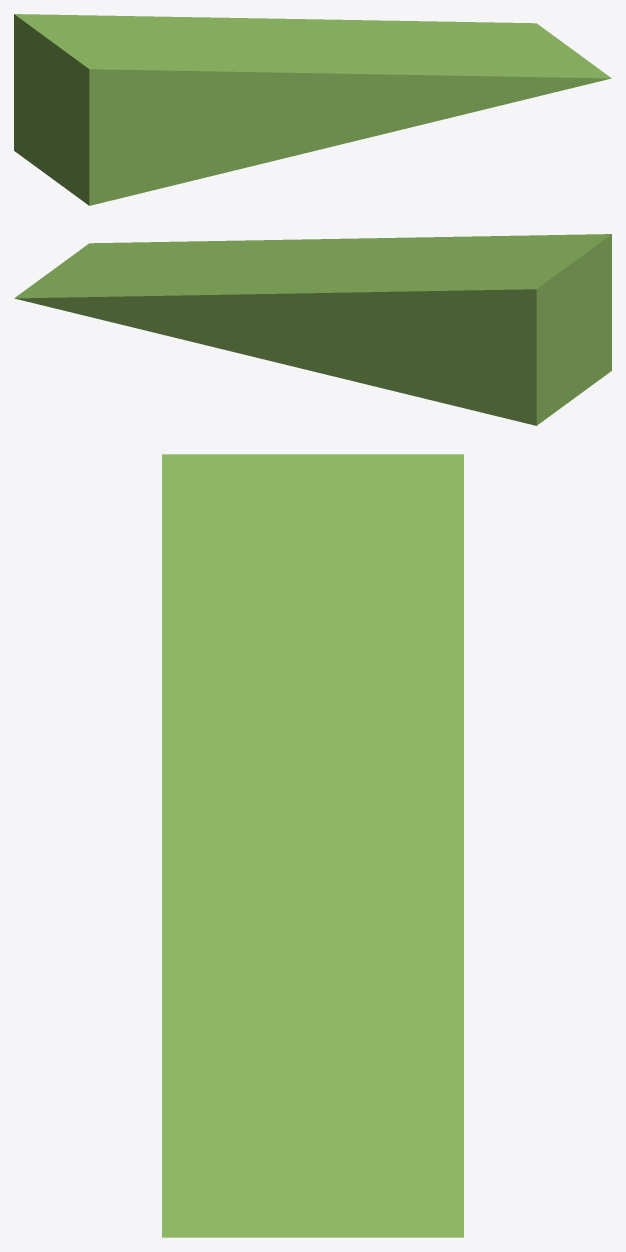
File: a_z3_path5.fbx
3 views of the same model, one above another, from view 1: azimuth 30°, elevation 25°; view 2: azimuth 150°, elevation 25°; view 3: azimuth 270°, elevation 25° (orthographic). The views are drawn at different scales.
Visible parts, largest first — view 1: a_z1_groundBlock5; view 2: a_z1_groundBlock5; view 3: a_z1_groundBlock5.
Boxes of the visible parts, x1,y1,x2,y2 form: a_z1_groundBlock5: (14, 14, 611, 205); a_z1_groundBlock5: (14, 234, 611, 425); a_z1_groundBlock5: (162, 454, 463, 1237).
Size of the model in its own units: 1200 by 300 by 300.
Materials: 1 (1 with a texture image).
